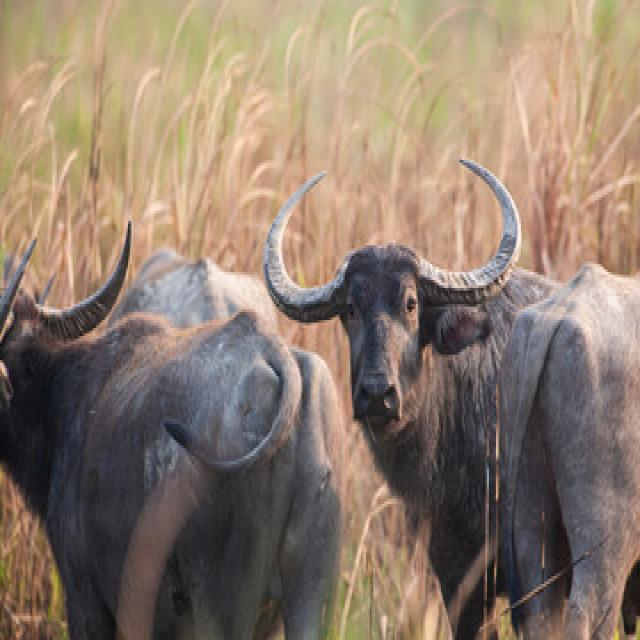Buffalo: (275, 167, 532, 623), (4, 201, 276, 606)
